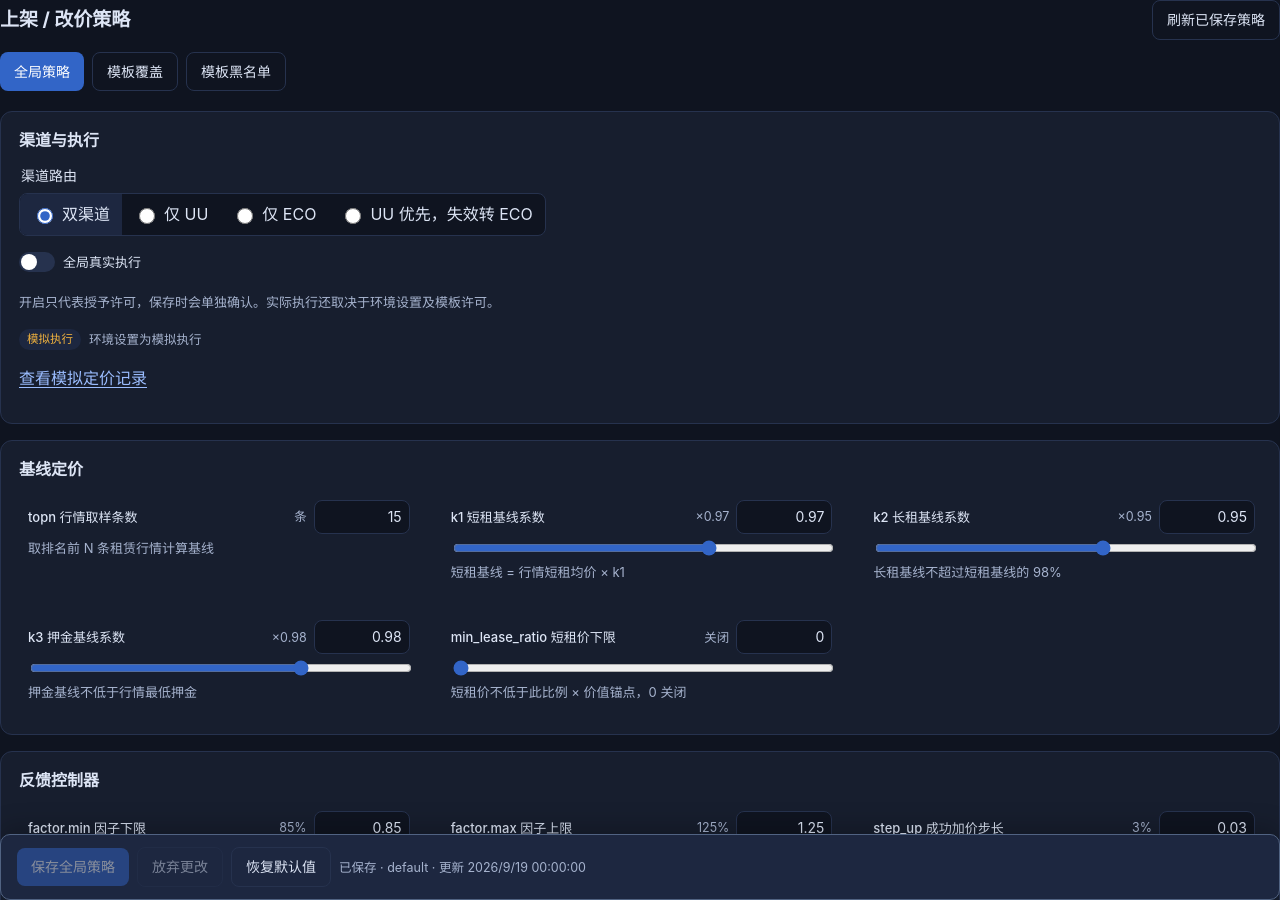
Test: global strategy drafts › allows incomplete numeric text without changing it and blocks invalid submit
Clear the number field named "k1 短租基线系数数值". click: (784, 517)
box: [736,500,832,534]
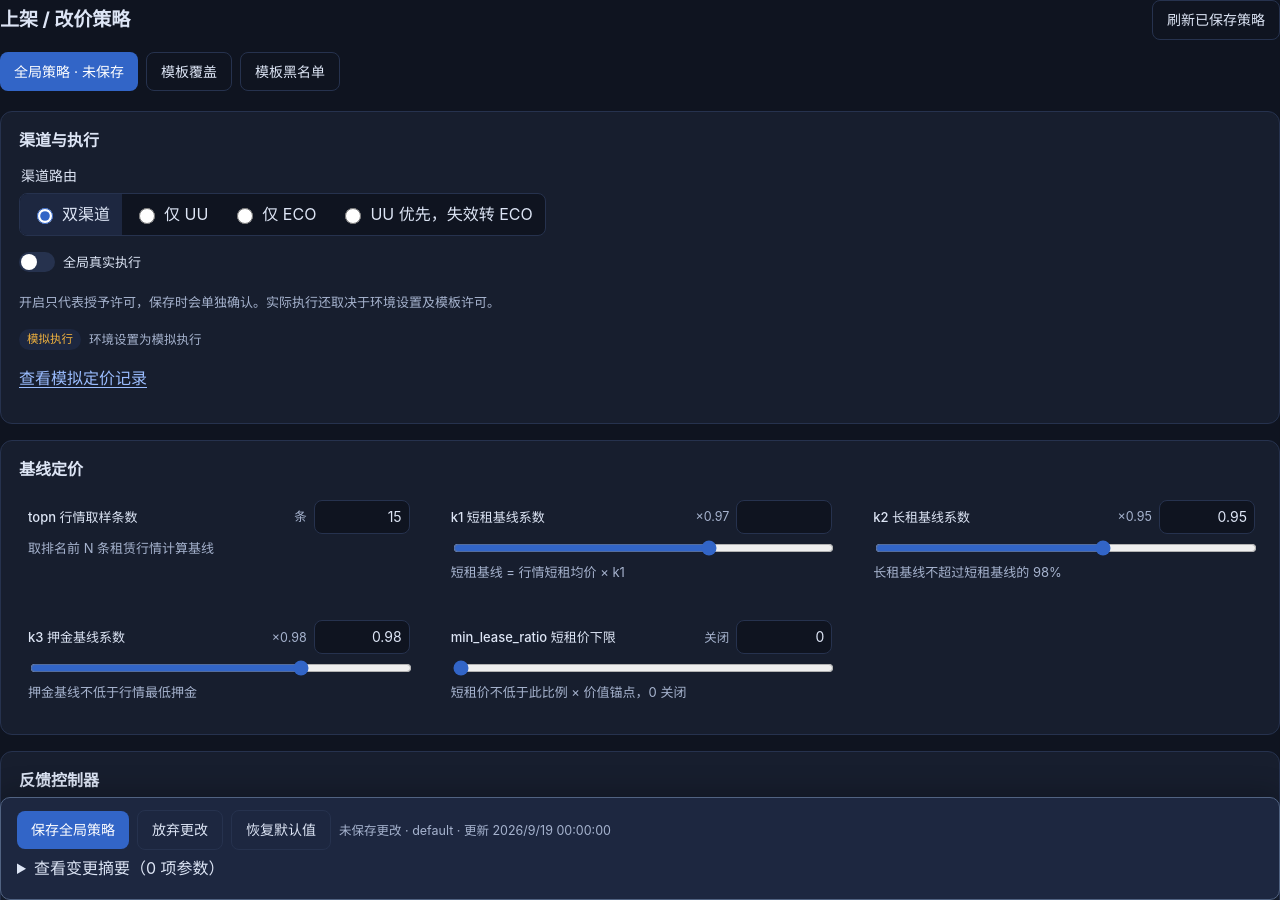
Leave the number field named "k1 短租基线系数数值", box [736,500,832,534]
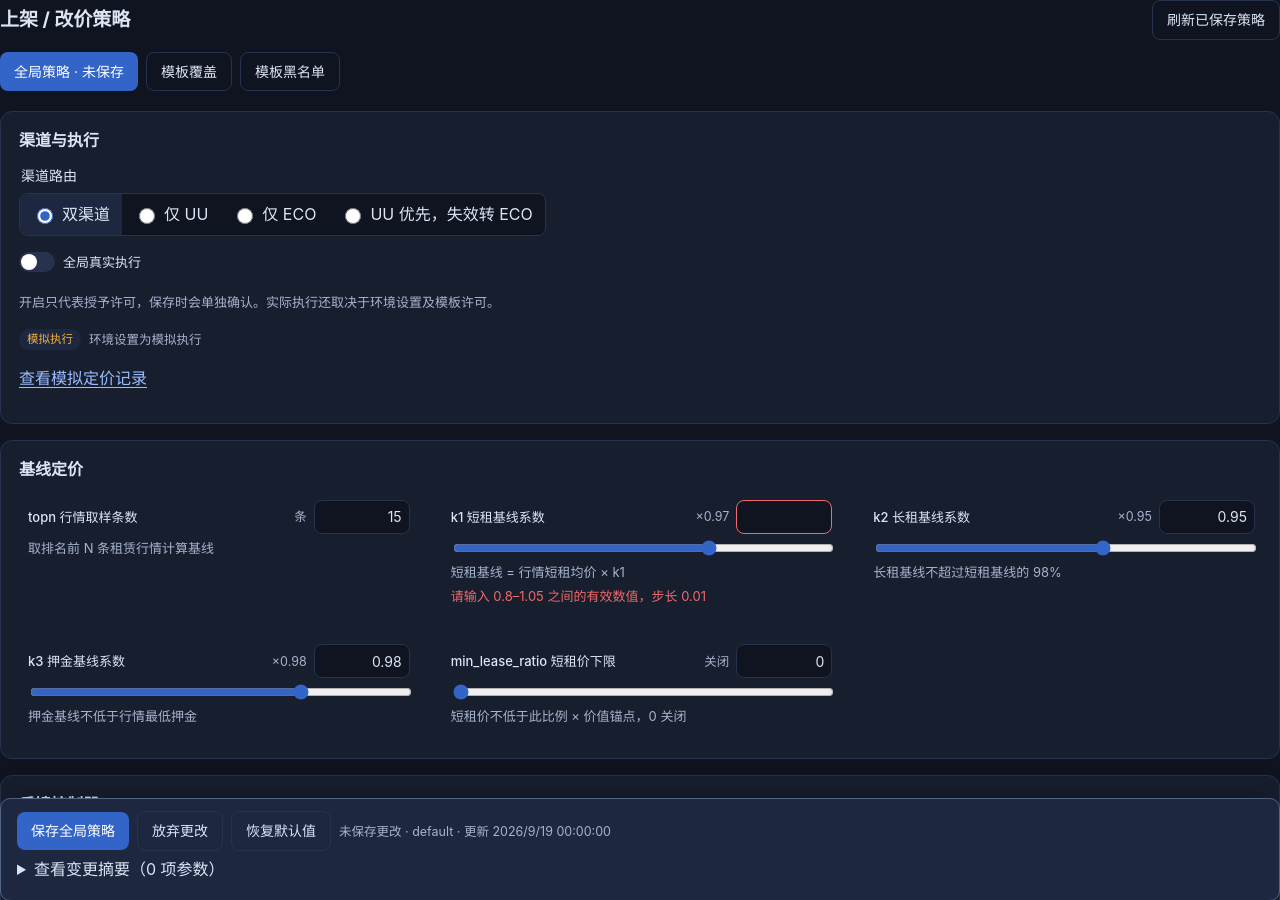
Now the message shows "请输入", box [451,588,493,604]
Click the button "保存全局策略". click: (73, 830)
box: [17,812,129,849]
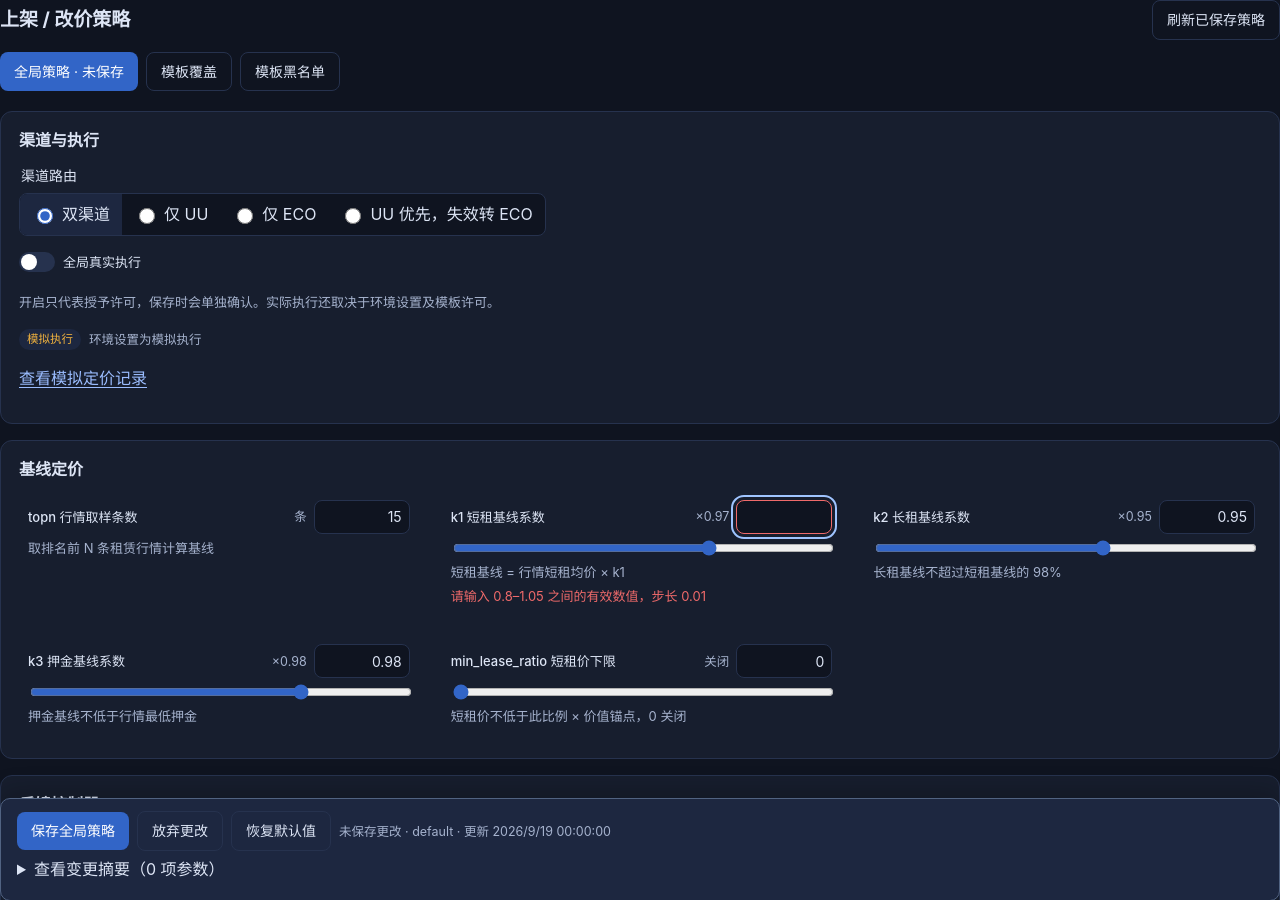
Type "0.95" into the number field named "k1 短租基线系数数值". click: (784, 517)
box: [736,500,832,534]
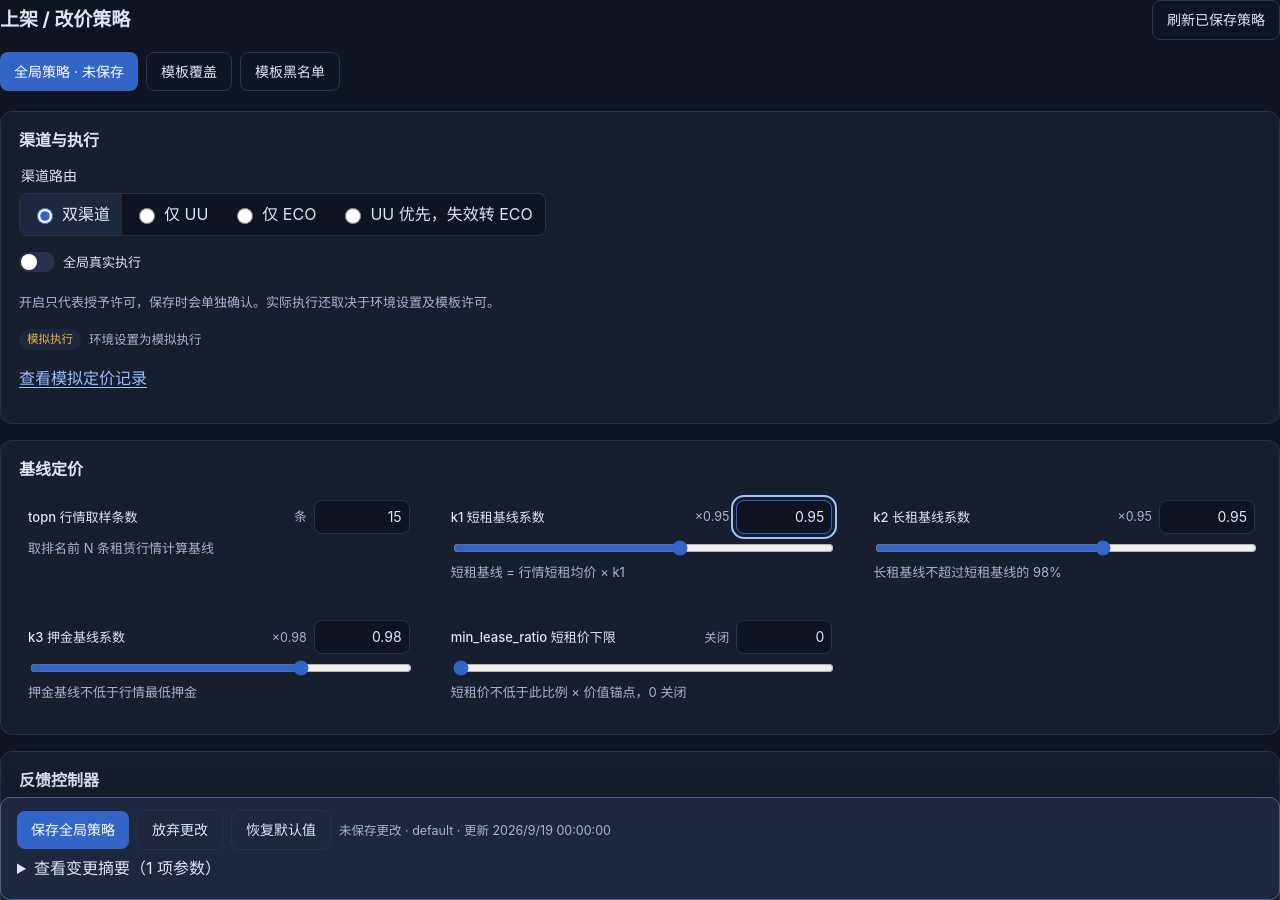
Click the button "保存全局策略". click: (73, 830)
box: [17,812,129,849]
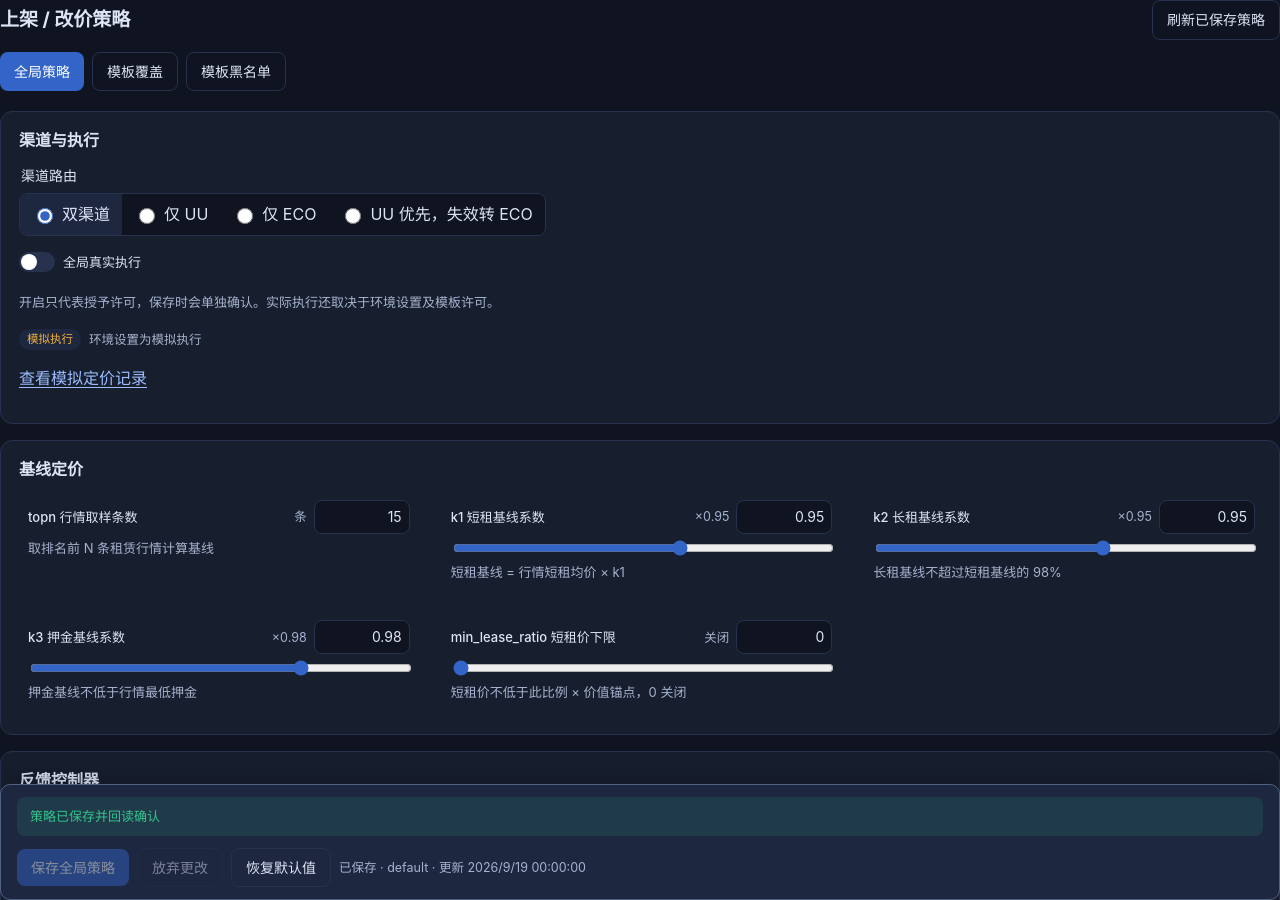
Now the text "策略已保存并回读确认" is shown, box [17,797,1263,835]
